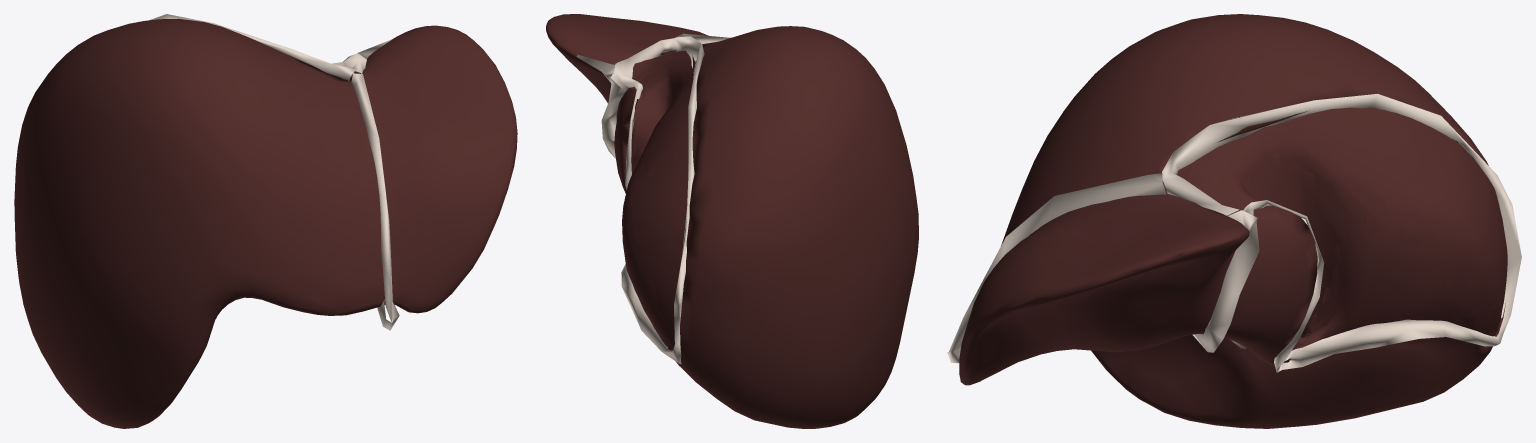
Rendered from vh_m_liver.glb.
3 views of the same model, side by side, from view 1: azimuth 30°, elevation 25°; view 2: azimuth 150°, elevation 25°; view 3: azimuth 270°, elevation 25° (orthographic). The views are drawn at different scales.
Visible parts, largest first — view 1: VH_M_liver_capsule, VH_M_falciform_ligament, VH_M_coronary_ligament_of_liver; view 2: VH_M_liver_capsule, VH_M_bare_area_of_liver, VH_M_coronary_ligament_of_liver, VH_M_right_posterosuperior_segment, VH_M_caudate_lobe_of_liver, VH_M_ligamentum_venosum, VH_M_diaphragmatic_surface, VH_M_right_posteroinferior_segment, VH_M_triangular_ligament_of_liver; view 3: VH_M_liver_capsule, VH_M_bare_area_of_liver, VH_M_coronary_ligament_of_liver, VH_M_right_posterosuperior_segment, VH_M_diaphragmatic_surface, VH_M_falciform_ligament, VH_M_caudate_lobe_of_liver, VH_M_ligamentum_venosum.
Part boxes in pixels (bbox=[...]): VH_M_liver_capsule: bbox=[14, 18, 517, 428]; VH_M_falciform_ligament: bbox=[351, 73, 393, 321]; VH_M_coronary_ligament_of_liver: bbox=[149, 14, 366, 81]; VH_M_liver_capsule: bbox=[546, 14, 918, 428]; VH_M_bare_area_of_liver: bbox=[622, 50, 692, 347]; VH_M_coronary_ligament_of_liver: bbox=[610, 36, 704, 363]; VH_M_right_posterosuperior_segment: bbox=[624, 101, 688, 317]; VH_M_caudate_lobe_of_liver: bbox=[631, 53, 690, 165]; VH_M_ligamentum_venosum: bbox=[601, 78, 626, 158]; VH_M_diaphragmatic_surface: bbox=[631, 74, 680, 339]; VH_M_right_posteroinferior_segment: bbox=[646, 310, 674, 345]; VH_M_triangular_ligament_of_liver: bbox=[576, 54, 615, 82]; VH_M_liver_capsule: bbox=[959, 14, 1506, 428]; VH_M_bare_area_of_liver: bbox=[1177, 107, 1507, 345]; VH_M_coronary_ligament_of_liver: bbox=[1162, 94, 1521, 372]; VH_M_right_posterosuperior_segment: bbox=[1337, 107, 1504, 318]; VH_M_diaphragmatic_surface: bbox=[1227, 155, 1496, 349]; VH_M_falciform_ligament: bbox=[949, 173, 1166, 351]; VH_M_caudate_lobe_of_liver: bbox=[1187, 126, 1366, 348]; VH_M_ligamentum_venosum: bbox=[1192, 219, 1259, 352].
Size of the model in its own units: 0.1915 by 0.1746 by 0.2024.
